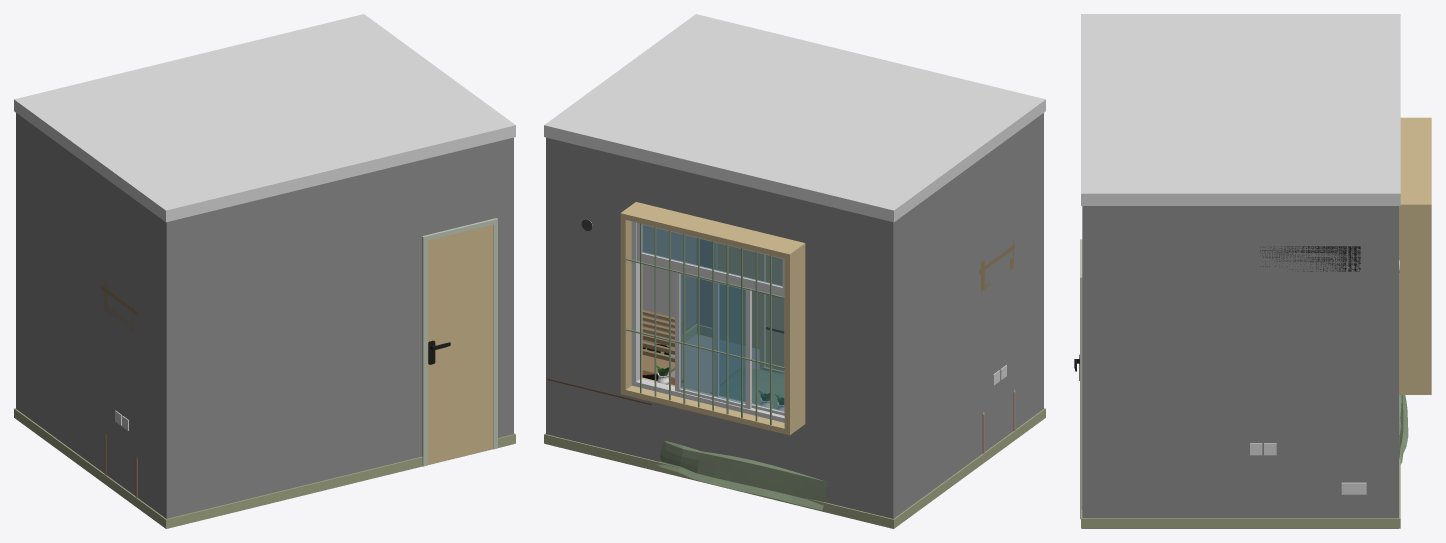
File: BedRoom.FBX
3 views of the same model, side by side, from view 1: azimuth 30°, elevation 25°; view 2: azimuth 150°, elevation 25°; view 3: azimuth 270°, elevation 25° (orthographic). The views are drawn at different scales.
Visible parts, largest first — view 1: Bedroom104, Bedroom106, Bedroom112, Bedroom107, Bedroom02, Bedroom108; view 2: Bedroom20, Bedroom106, Bedroom112, Bedroom21, Bedroom25, Bedroom31, Bedroom24, Bedroom27, Bedroom26, Bedroom02, Bedroom107, Bedroom01 (+4 smaller); view 3: Bedroom112, Bedroom106, Bedroom21, Bedroom02, Bedroom42, Bedroom108, Bedroom31.
Boxes of the visible parts, bbox=[...] form: Bedroom104: bbox=[166, 159, 424, 518]; Bedroom106: bbox=[14, 14, 515, 222]; Bedroom112: bbox=[16, 113, 513, 518]; Bedroom107: bbox=[427, 224, 493, 464]; Bedroom02: bbox=[14, 408, 515, 528]; Bedroom108: bbox=[422, 218, 497, 466]; Bedroom20: bbox=[546, 137, 893, 518]; Bedroom106: bbox=[544, 14, 1045, 222]; Bedroom112: bbox=[642, 113, 1043, 518]; Bedroom21: bbox=[620, 202, 805, 435]; Bedroom25: bbox=[675, 270, 751, 408]; Bedroom31: bbox=[656, 368, 827, 510]; Bedroom24: bbox=[714, 282, 784, 415]; Bedroom27: bbox=[626, 223, 784, 424]; Bedroom26: bbox=[636, 222, 784, 290]; Bedroom02: bbox=[544, 324, 1045, 528]; Bedroom107: bbox=[717, 243, 759, 348]; Bedroom01: bbox=[668, 334, 759, 393]; Bedroom112: bbox=[1082, 206, 1398, 518]; Bedroom106: bbox=[1081, 14, 1400, 205]; Bedroom21: bbox=[1399, 117, 1431, 394]; Bedroom02: bbox=[1081, 449, 1400, 528]; Bedroom42: bbox=[1260, 246, 1360, 271]; Bedroom108: bbox=[1080, 239, 1082, 519]; Bedroom31: bbox=[1399, 395, 1408, 464].
Size of the model in its own units: 4.03 by 3.52 by 3.39.
